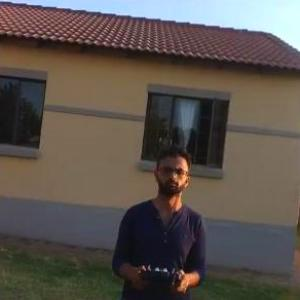follow: (104, 140, 212, 299)
